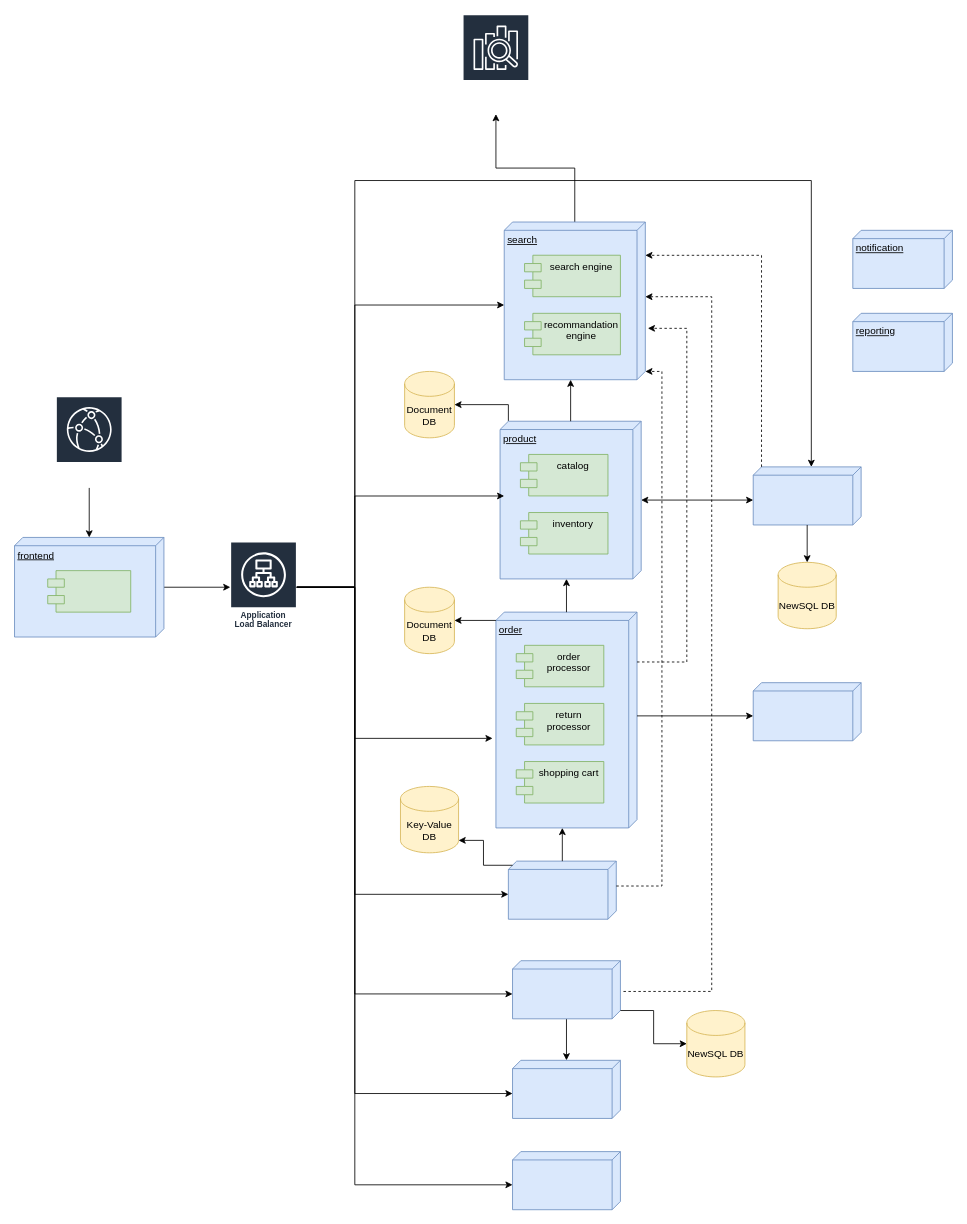
Image size: 967x1224. Some labels were removed from this diagram. The shapes that lost their labels are listed below. From the top down, each one's centre as x and y in pixels, then its label:
At point 495,64: "Amazon Elasticsearch Service".
At point 88,441: "Amazon Cloudfront".
At point 806,495: "accounting".
At point 89,591: "web application".
At point 806,711: "payment".
At point 562,889: "review".
At point 566,989: "profile".
At point 566,1088: "identity".
At point 566,1180: "delivery".
